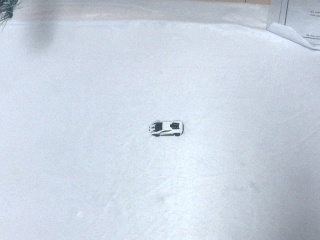toy_car: (149, 120, 184, 136)
